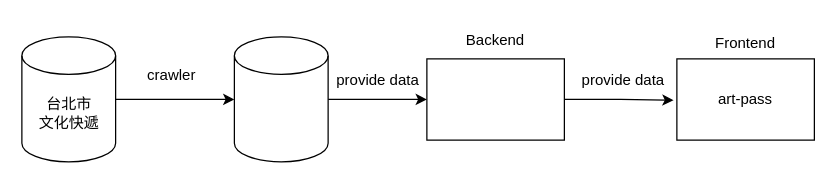
Image size: 836x184. Some labels were removed from this diagram. Each missing label, with the box of its shape:
Event DB: (233, 36, 328, 162)
event_api: (426, 58, 564, 140)
